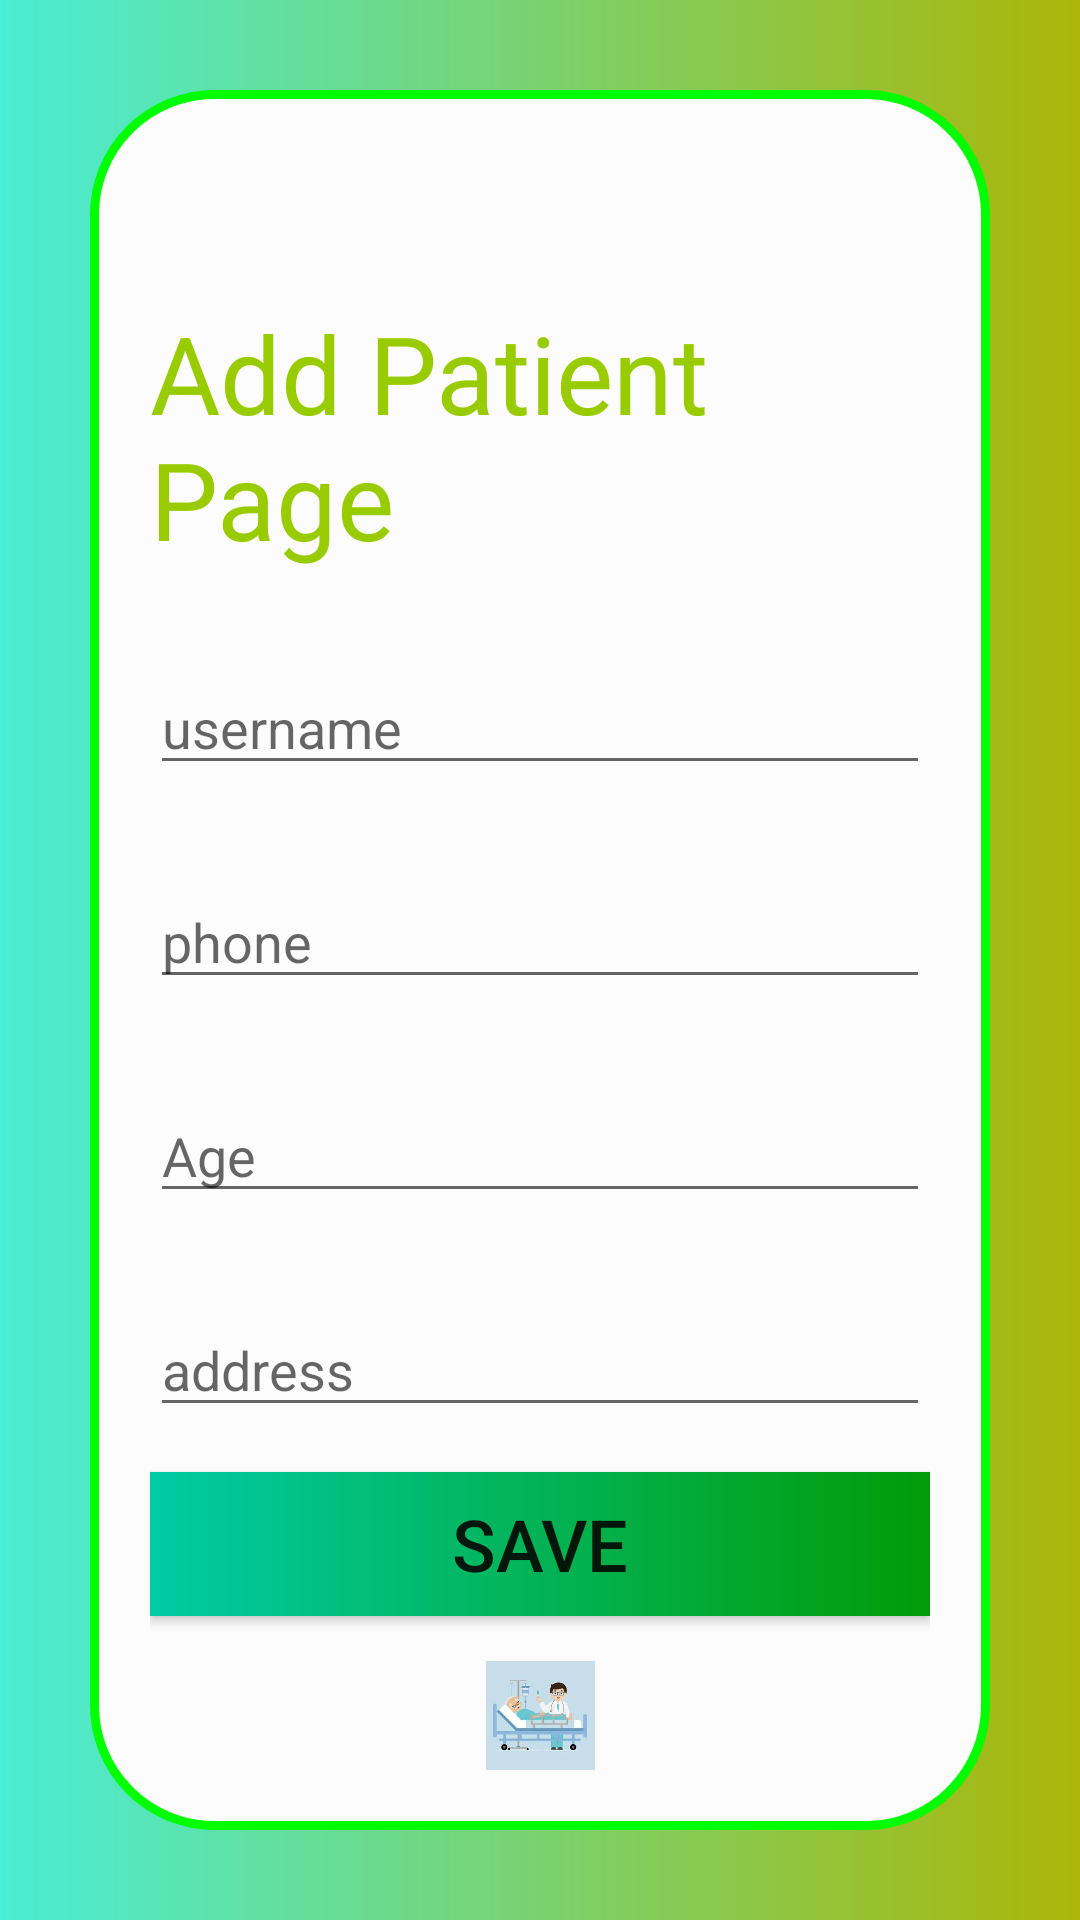

Screen size 1080 x 1920. Icon name, then its center in pixels as (x=x, y=y):
pat: (x=540, y=1715)
